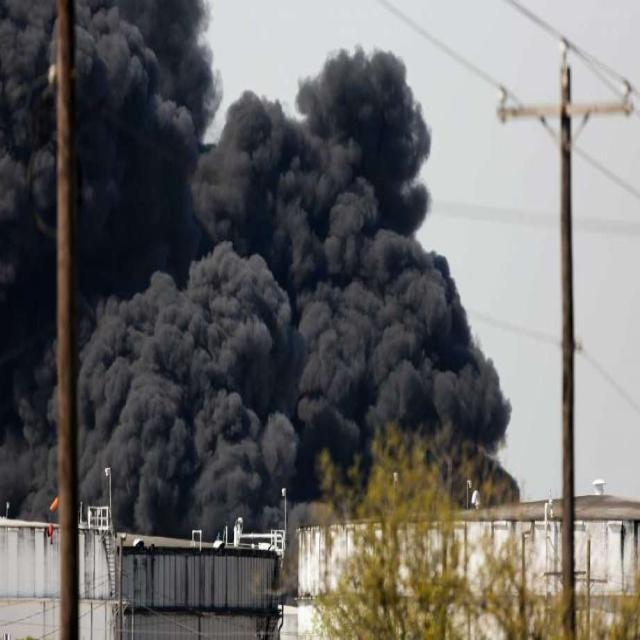Fire: (48, 488, 61, 512)
Smoke: (78, 8, 489, 436), (106, 72, 274, 522), (290, 51, 476, 430), (0, 0, 55, 456)
